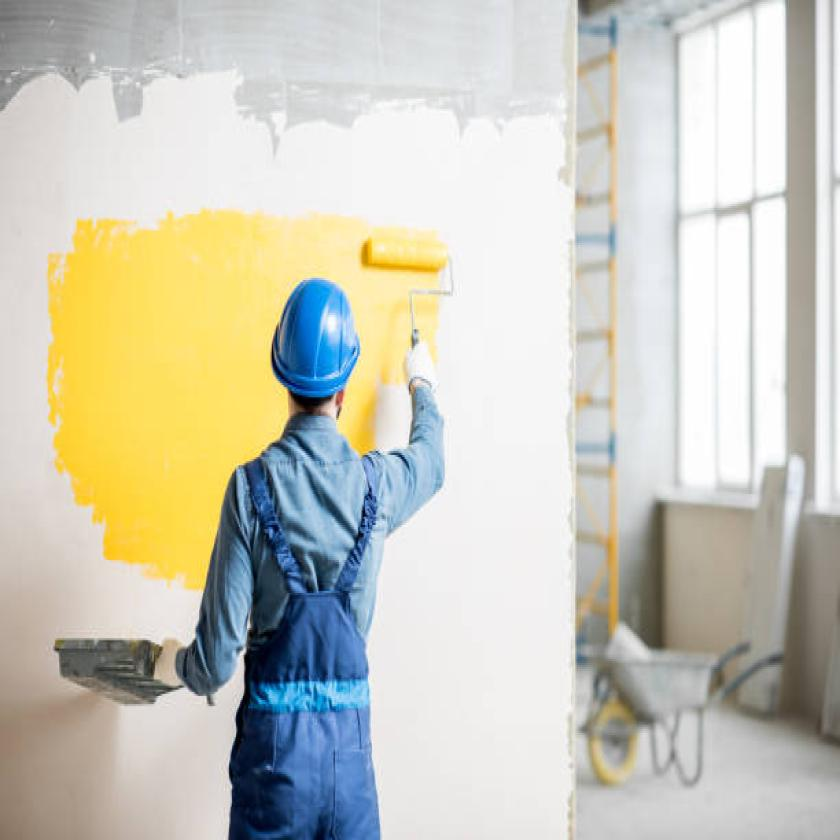Con_casco: (262, 245, 368, 446)
